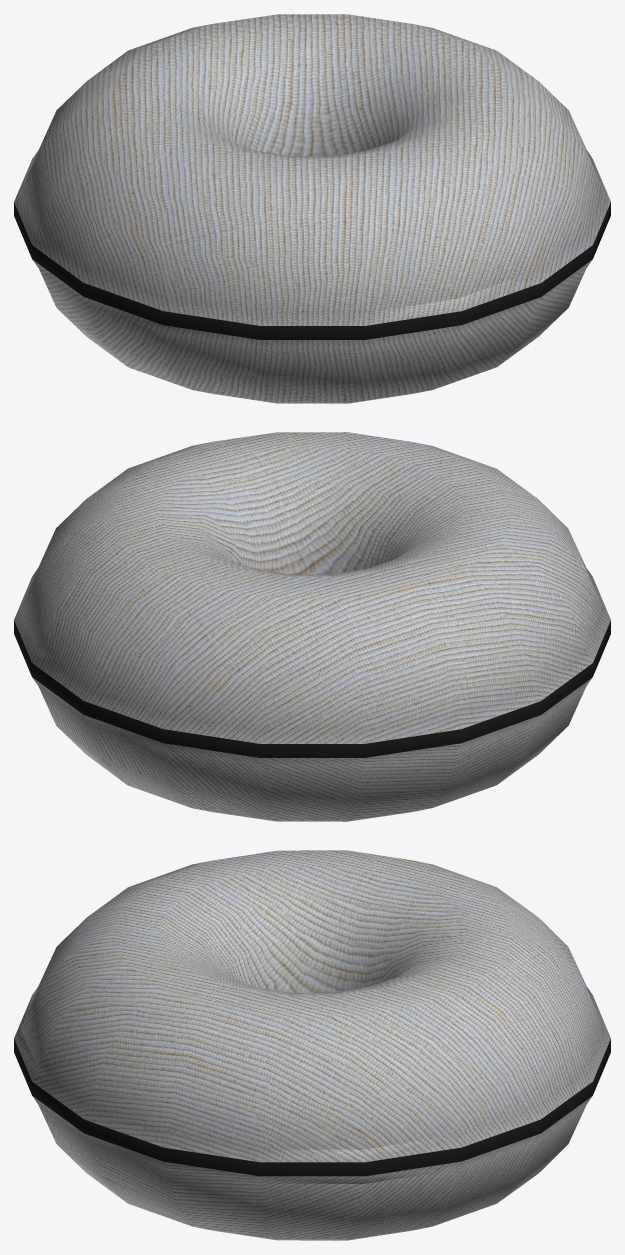
The model's file is YGB0110051.fbx.
The picture shows the model from 3 angles, top to bottom: view 1: azimuth 30°, elevation 25°; view 2: azimuth 150°, elevation 25°; view 3: azimuth 270°, elevation 25°; orthographic projection.
Visible parts, largest first — view 1: smYGB0110051; view 2: smYGB0110051; view 3: smYGB0110051.
Boxes of the visible parts, x1,y1,x2,y2 form: smYGB0110051: (14, 14, 610, 403); smYGB0110051: (14, 432, 610, 821); smYGB0110051: (14, 850, 610, 1240).
Bounding box in the file's own units: 91 × 39.11 × 92.44.
1 material, 1 textured.
